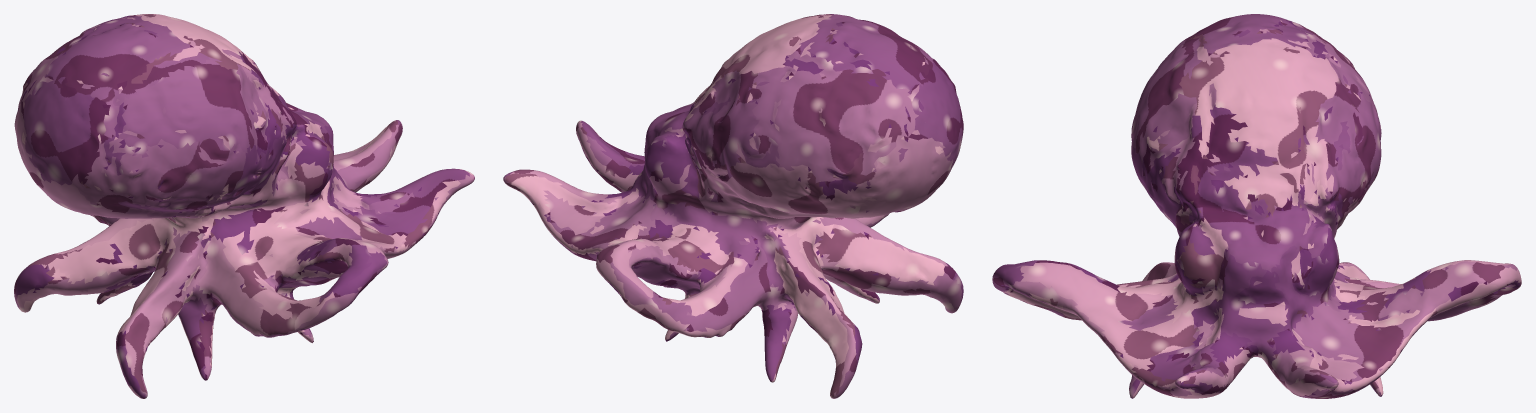
File: octopus.obj
The picture shows the model from 3 angles, left to right: view 1: azimuth 30°, elevation 25°; view 2: azimuth 150°, elevation 25°; view 3: azimuth 270°, elevation 25°; orthographic projection. The views are drawn at different scales.
Visible parts, largest first — view 1: octopus; view 2: octopus; view 3: octopus.
Part boxes in pixels (<box>): octopus: <box>14,14,474,398</box>; octopus: <box>503,14,963,398</box>; octopus: <box>992,14,1521,398</box>.
Bounding box in the file's own units: 0.5434 × 0.4049 × 0.5847.
1 material, 1 textured.
